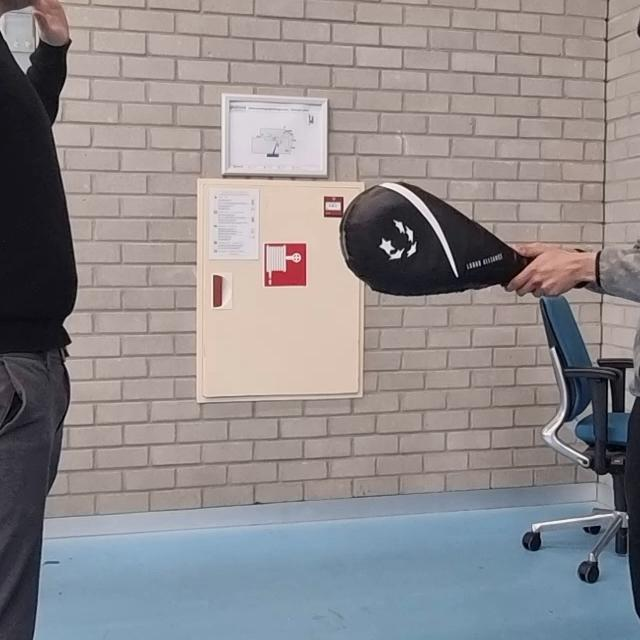paddle: (338, 180, 520, 297)
